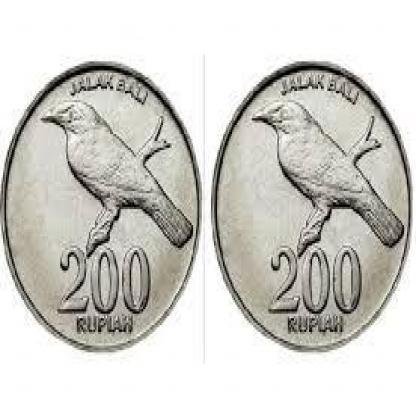coin_200_e2003: (210, 60, 416, 357), (0, 56, 204, 354)
